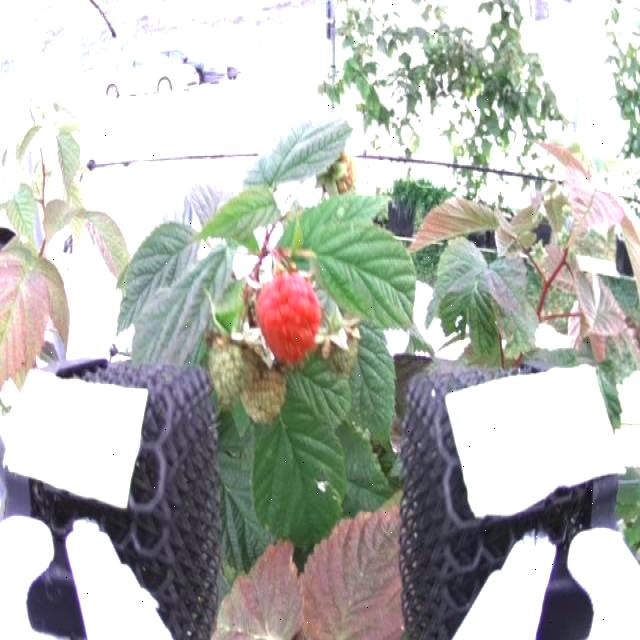Riped berries: (253, 268, 323, 364)
